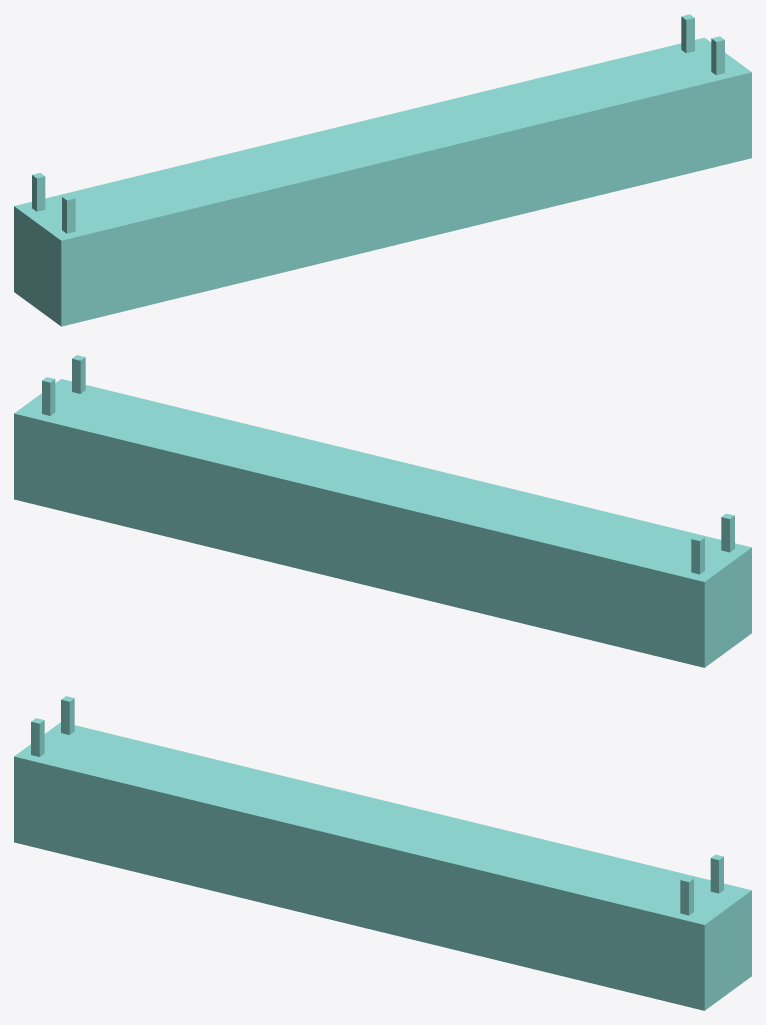
File: VintilTileLong_Collision.fbx
The picture shows the model from 3 angles, top to bottom: view 1: azimuth 30°, elevation 25°; view 2: azimuth 150°, elevation 25°; view 3: azimuth 330°, elevation 25°; orthographic projection.
Parts seen in each view (by area): view 1: VintilTileLong_Collision; view 2: VintilTileLong_Collision; view 3: VintilTileLong_Collision.
Part boxes in pixels (x1,y1,x2,y2): VintilTileLong_Collision: [14, 14, 751, 326]; VintilTileLong_Collision: [14, 355, 751, 667]; VintilTileLong_Collision: [14, 696, 751, 1010].
Size of the model in its own units: 3.52 by 0.5804 by 0.4182.
